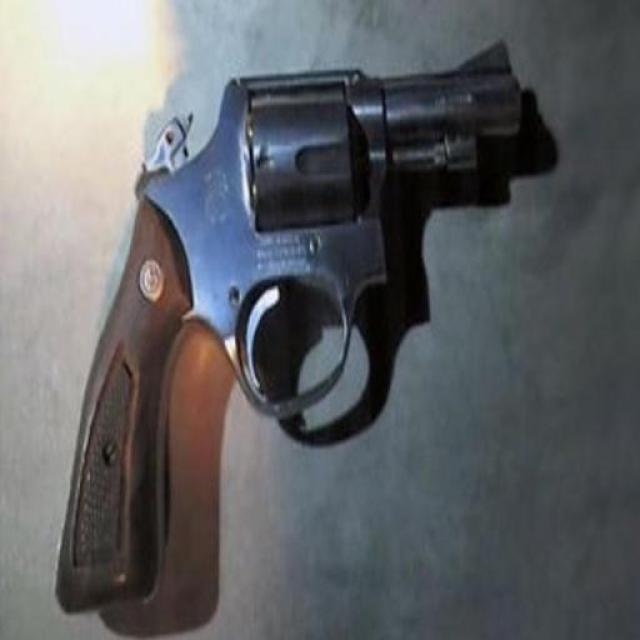pistol: (50, 31, 526, 606)
